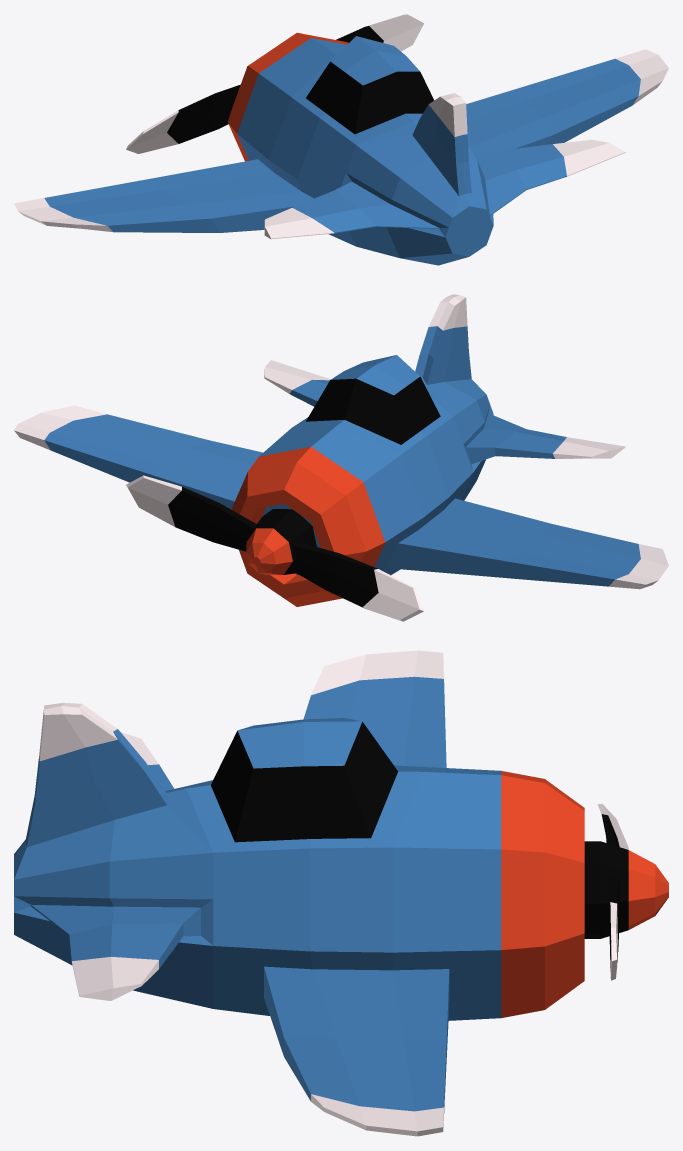
Rendered from avião.glb.
The picture shows the model from 3 angles, top to bottom: view 1: azimuth 30°, elevation 25°; view 2: azimuth 150°, elevation 25°; view 3: azimuth 270°, elevation 25°; orthographic projection. The views are drawn at different scales.
Parts seen in each view (by area): view 1: Cylinder, Cylinder.001; view 2: Cylinder, Cylinder.001; view 3: Cylinder, Cylinder.001.
Boxes of the visible parts, x1,y1,x2,y2 form: Cylinder: [14, 32, 668, 265]; Cylinder.001: [126, 14, 423, 153]; Cylinder: [14, 294, 668, 606]; Cylinder.001: [126, 475, 423, 621]; Cylinder: [14, 650, 584, 1136]; Cylinder.001: [584, 804, 668, 980].
Size of the model in its own units: 7.95 by 2.41 by 4.58.
